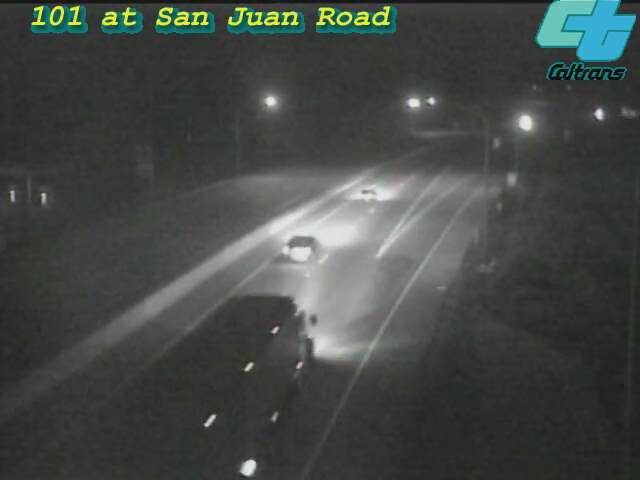vehicle: (184, 329, 294, 439), (331, 153, 411, 233), (264, 204, 344, 284), (500, 97, 550, 147), (573, 89, 623, 139), (607, 87, 640, 137)
